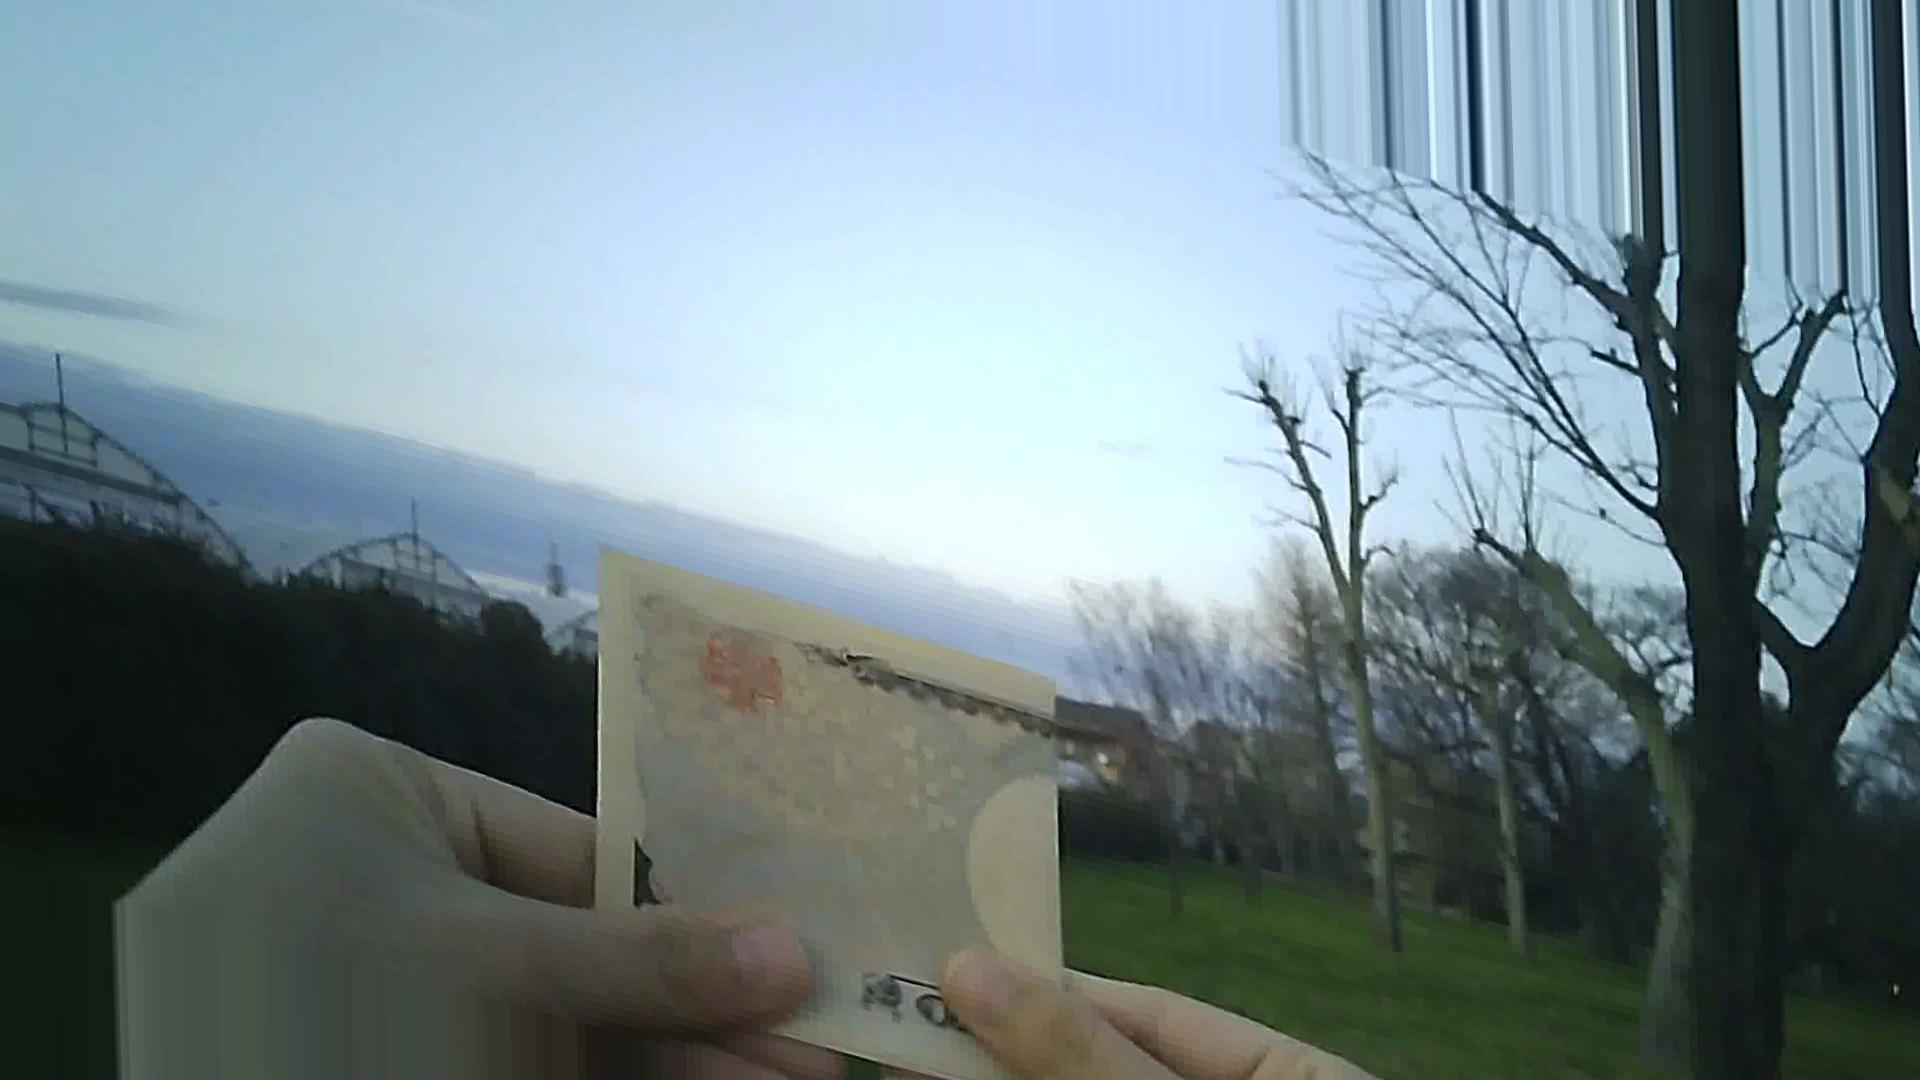10,000 Yen: (541, 535, 1089, 1079)
